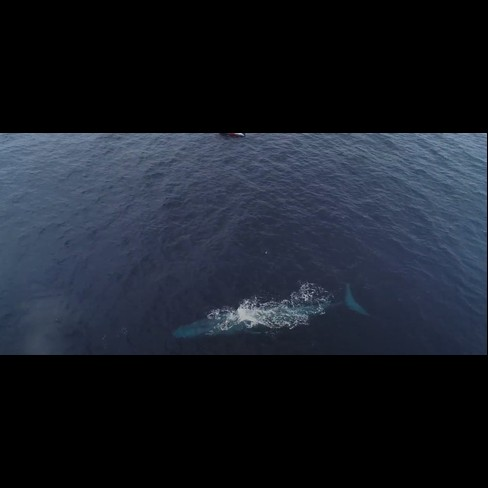bluewhale: (163, 280, 375, 346)
